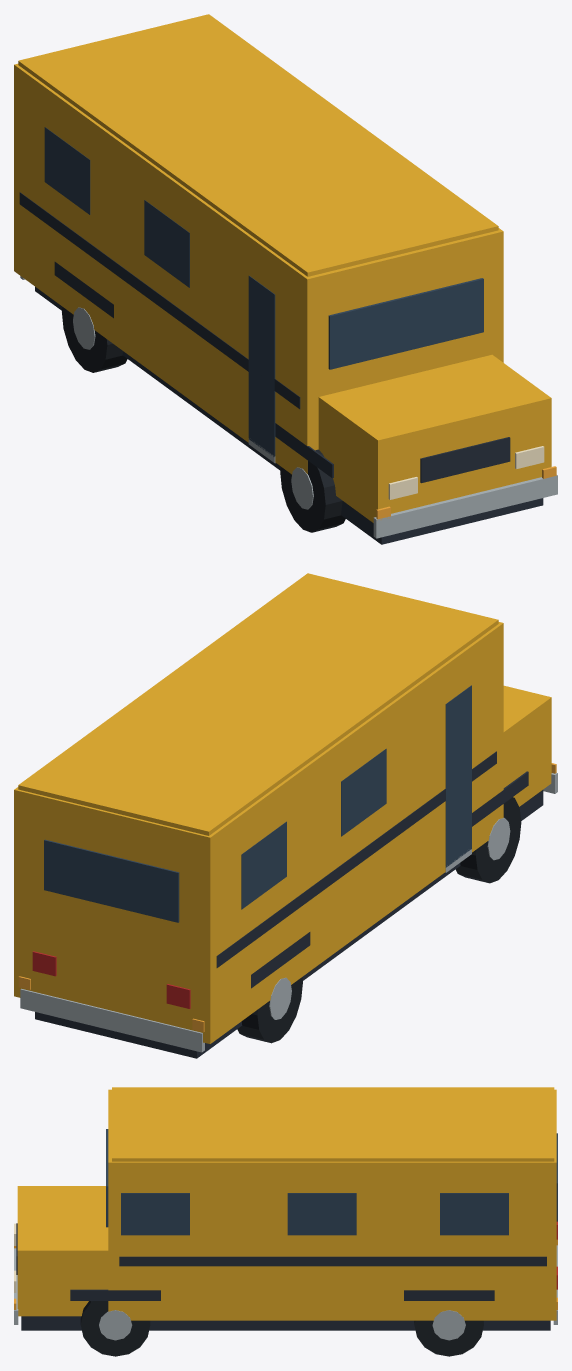
The model's file is npc_school_bus_lod1.glb.
The picture shows the model from 3 angles, top to bottom: view 1: azimuth 30°, elevation 25°; view 2: azimuth 150°, elevation 25°; view 3: azimuth 270°, elevation 25°; orthographic projection. The views are drawn at different scales.
Parts seen in each view (by area): view 1: passenger_shell, roof, bonnet, windshield, passenger_door, front_bumper, waist_trim_R, chassis, window_2_R, window_1_R, wheel_F_R_tire, grille (+5 smaller); view 2: passenger_shell, roof, rear_window, bonnet, passenger_door, rear_bumper, waist_trim_R, chassis, window_2_R, window_1_R, wheel_F_R_tire, wheel_R_R_tire (+4 smaller); view 3: passenger_shell, roof, bonnet, waist_trim_L, chassis, window_1_L, window_0_L, window_2_L, wheel_F_L_tire, wheel_R_L_tire, wheel_arch_F_L, wheel_arch_R_L (+2 smaller).
Part boxes in pixels (x1,y1,x2,y2): passenger_shell: (14, 63, 503, 474); roof: (18, 14, 498, 276); bonnet: (318, 354, 551, 522); windshield: (328, 278, 483, 369); passenger_door: (248, 275, 275, 456); front_bumper: (373, 475, 557, 538); waist_trim_R: (19, 192, 300, 409); chassis: (35, 287, 543, 544); window_2_R: (44, 127, 90, 214); window_1_R: (144, 200, 189, 287); wheel_F_R_tire: (280, 449, 345, 532); grille: (420, 437, 510, 483); passenger_shell: (14, 622, 503, 1043); roof: (18, 573, 498, 835); rear_window: (44, 839, 179, 922); bonnet: (503, 685, 551, 806); passenger_door: (445, 685, 471, 867); rear_bumper: (20, 988, 204, 1052); waist_trim_R: (216, 751, 496, 967); chassis: (35, 790, 543, 1058); window_2_R: (241, 821, 286, 909); window_1_R: (341, 748, 386, 836); wheel_F_R_tire: (455, 797, 521, 883); wheel_R_R_tire: (237, 977, 302, 1043); passenger_shell: (108, 1089, 556, 1320); roof: (112, 1087, 554, 1161); bonnet: (17, 1186, 108, 1316); waist_trim_L: (119, 1256, 546, 1266); chassis: (21, 1316, 550, 1330); window_1_L: (287, 1193, 356, 1235); window_0_L: (121, 1193, 189, 1235); window_2_L: (440, 1193, 508, 1235); wheel_F_L_tire: (80, 1301, 150, 1356); wheel_R_L_tire: (414, 1320, 483, 1356); wheel_arch_F_L: (70, 1289, 160, 1300); wheel_arch_R_L: (404, 1290, 494, 1300).
Size of the model in its own units: 2.4 by 3 by 7.5.
